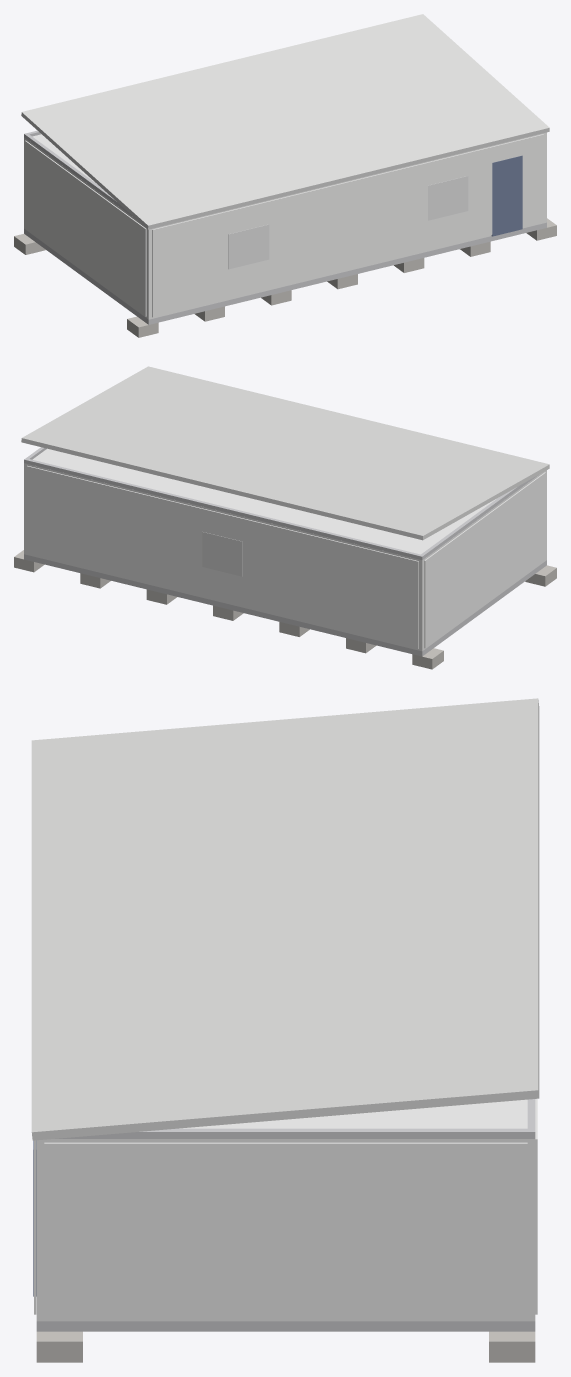
Rendered from Studio-40-SlopingRoof-LOD0.glb.
The picture shows the model from 3 angles, top to bottom: view 1: azimuth 30°, elevation 25°; view 2: azimuth 150°, elevation 25°; view 3: azimuth 270°, elevation 25°; orthographic projection. The views are drawn at different scales.
Parts seen in each view (by area): view 1: RoofSlopingUpgrade, ExteriorPanelsStandard, BaseFrame, WindowsStandard, FoundationBlocks, ExteriorShell, EntryDoor, TopFrame; view 2: ExteriorPanelsStandard, RoofSlopingUpgrade, InteriorCeiling, TopFrame, BaseFrame, ExteriorShell, FoundationBlocks, WindowsStandard; view 3: RoofSlopingUpgrade, ExteriorPanelsStandard, ExteriorShell, BaseFrame, InteriorCeiling, TopFrame, FoundationBlocks.
Boxes of the visible parts, bbox=[...] form: RoofSlopingUpgrade: bbox=[21, 14, 549, 229]; ExteriorPanelsStandard: bbox=[25, 134, 544, 317]; BaseFrame: bbox=[24, 222, 546, 324]; WindowsStandard: bbox=[228, 176, 468, 269]; FoundationBlocks: bbox=[14, 218, 556, 337]; ExteriorShell: bbox=[24, 132, 546, 319]; EntryDoor: bbox=[491, 155, 522, 236]; TopFrame: bbox=[24, 130, 136, 219]; ExteriorPanelsStandard: bbox=[26, 465, 545, 648]; RoofSlopingUpgrade: bbox=[21, 366, 549, 540]; InteriorCeiling: bbox=[32, 448, 496, 554]; TopFrame: bbox=[24, 447, 538, 559]; BaseFrame: bbox=[24, 554, 546, 656]; ExteriorShell: bbox=[24, 463, 546, 651]; FoundationBlocks: bbox=[14, 550, 556, 669]; WindowsStandard: bbox=[202, 532, 242, 576]; RoofSlopingUpgrade: bbox=[31, 698, 539, 1140]; ExteriorPanelsStandard: bbox=[34, 1098, 537, 1318]; ExteriorShell: bbox=[36, 1139, 535, 1321]; BaseFrame: bbox=[36, 1321, 535, 1331]; InteriorCeiling: bbox=[179, 1099, 527, 1128]; TopFrame: bbox=[55, 1099, 535, 1138]; FoundationBlocks: bbox=[36, 1331, 535, 1362].
Size of the model in its own units: 12.49 by 3.77 by 6.56.
